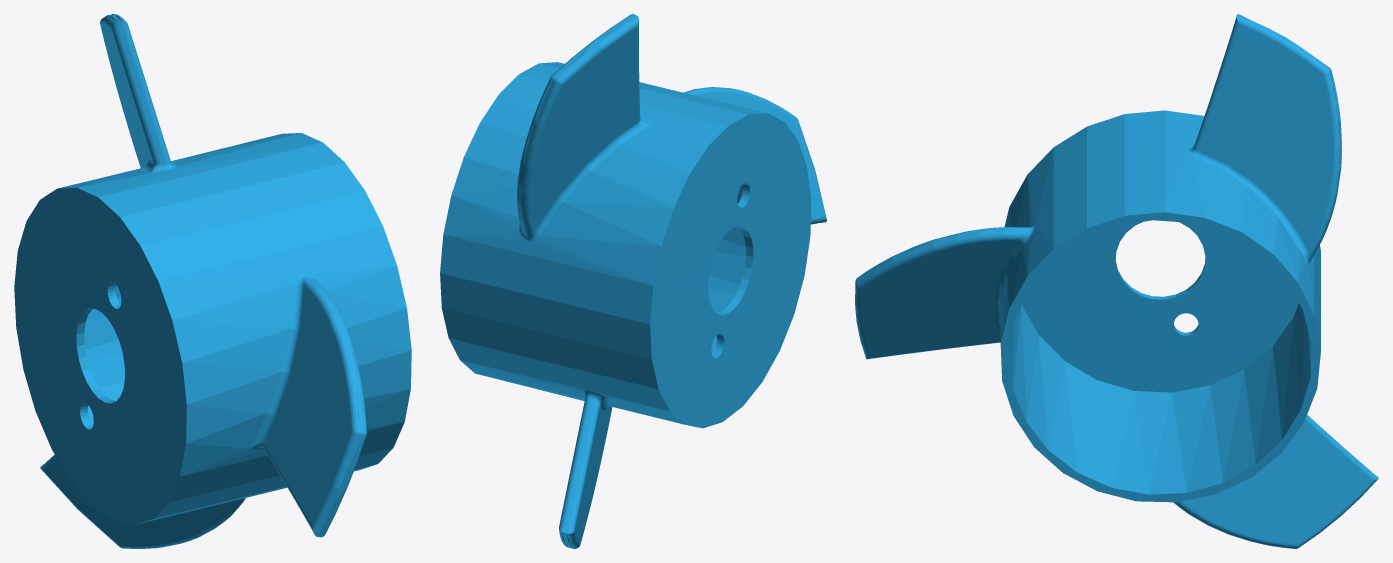
File: CWPropeller.dae
3 views of the same model, side by side, from view 1: azimuth 30°, elevation 25°; view 2: azimuth 150°, elevation 25°; view 3: azimuth 270°, elevation 25° (orthographic). The views are drawn at different scales.
Parts seen in each view (by area): view 1: CW Propeller; view 2: CW Propeller; view 3: CW Propeller.
Boxes of the visible parts, x1=… form: CW Propeller: x1=14, y1=14, x2=411, y2=548; CW Propeller: x1=440, y1=14, x2=826, y2=548; CW Propeller: x1=855, y1=14, x2=1378, y2=548.
Bounding box in the file's own units: 0.03 × 0.0653 × 0.0711.
